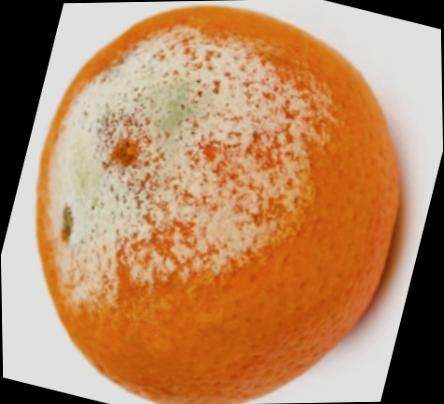Orange Rotten: (25, 0, 411, 404)
